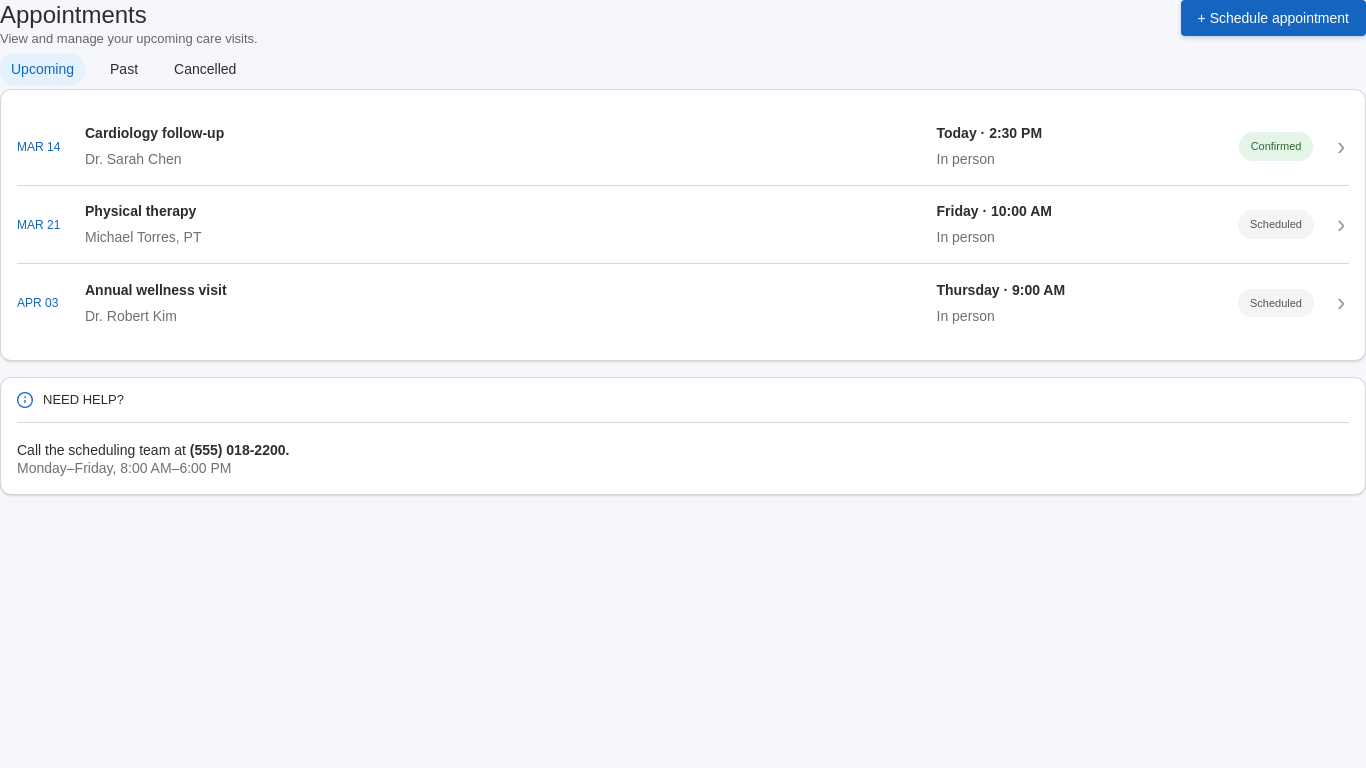
Scenario: CareScreens › Appointments › scheduling adds an appointment to Upcoming
The width and height of the screenshot is (1366, 768).
Step 1. Click the button "+ Schedule appointment" → (1273, 18), box [1181,0,1365,36]
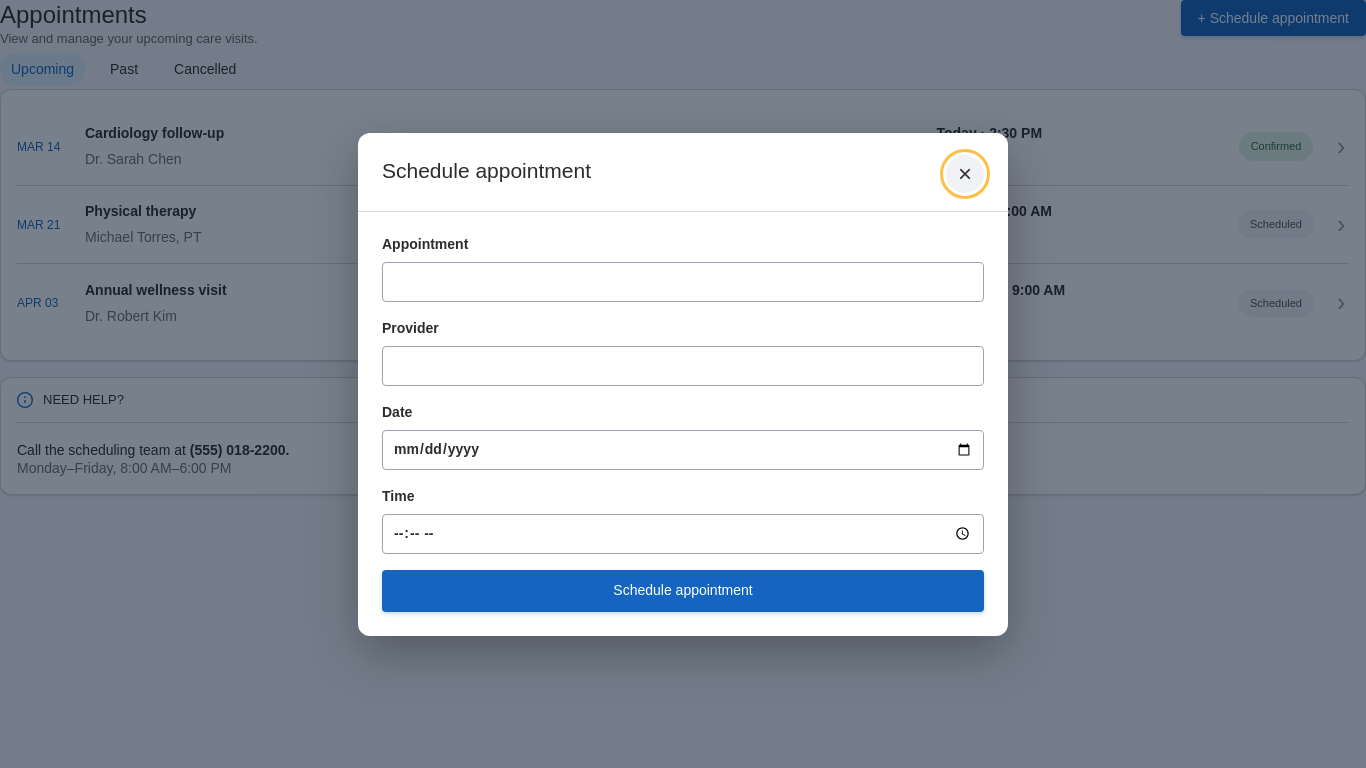
Step 2. Type "Eye exam" into the field labelled "Appointment" → (683, 282), box [382,262,984,302]
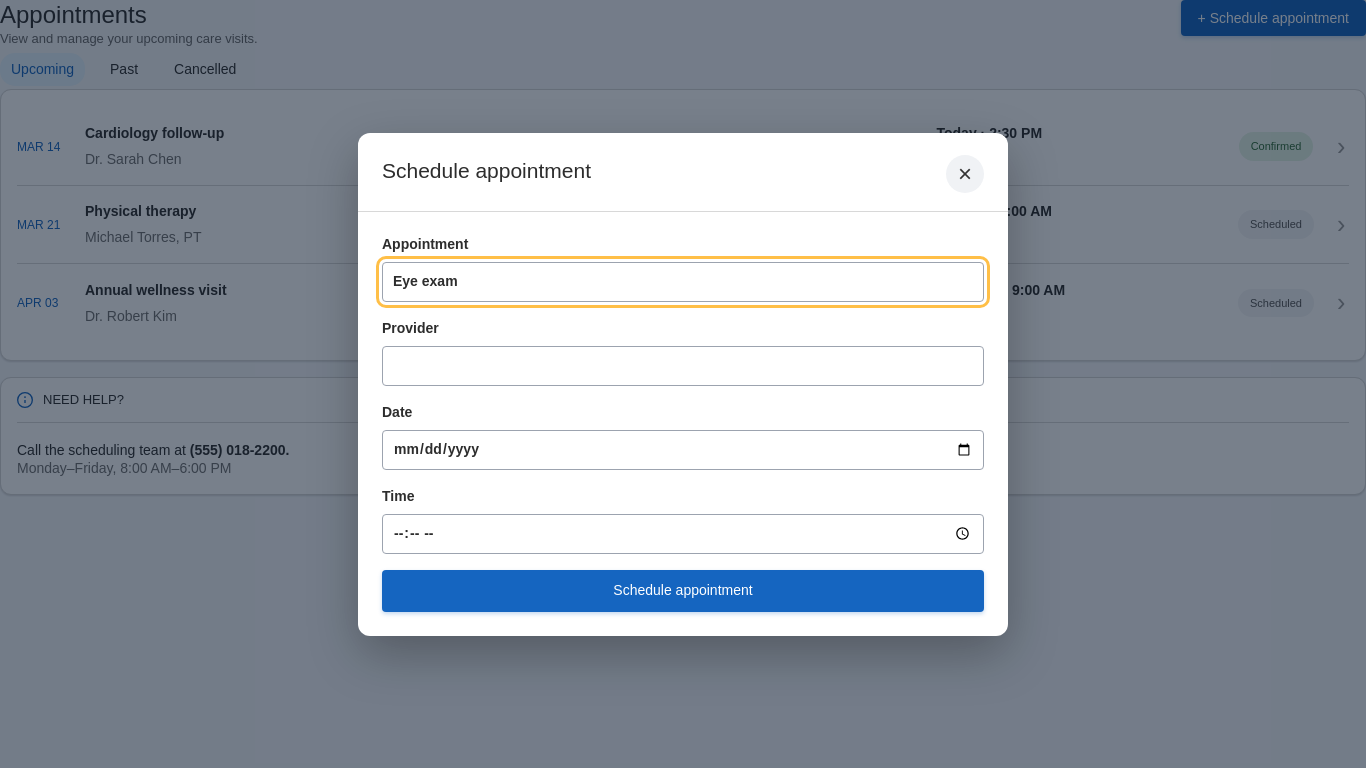
Step 3. Type "Dr. Jones" into the field labelled "Provider" → (683, 366), box [382,346,984,386]
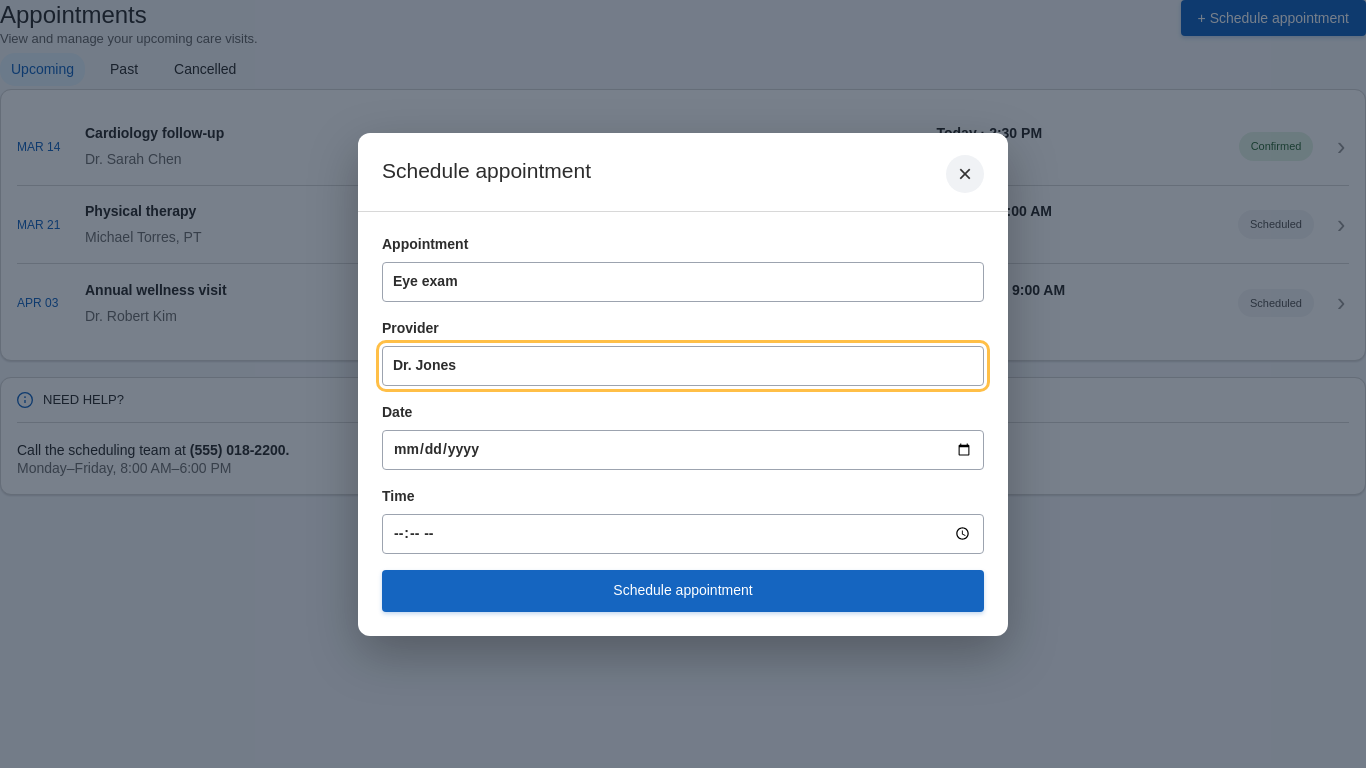
Step 4. Type "2026-11-12" into the date field labelled "Date" → (683, 450), box [382,430,984,470]
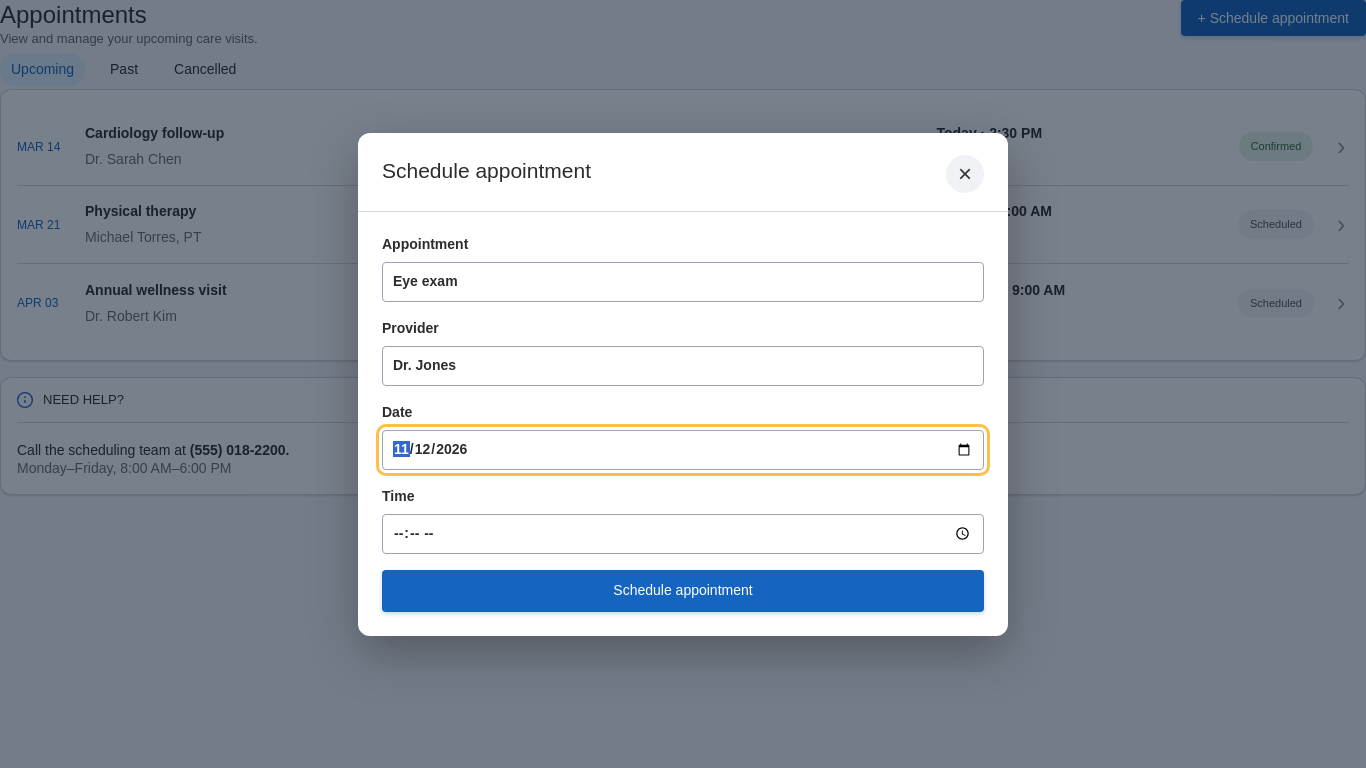
Step 5. Type "10:30" into the time field labelled "Time" → (683, 534), box [382,514,984,554]
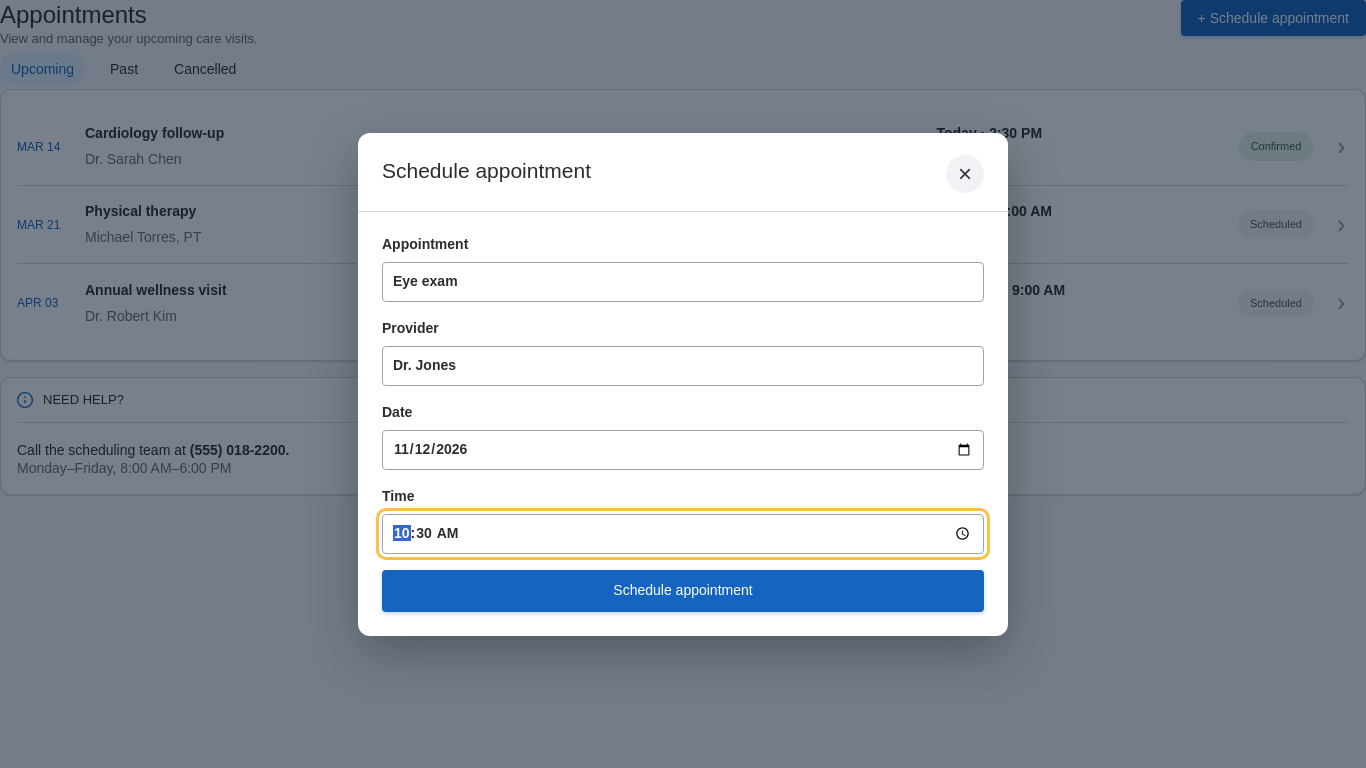
Step 6. Click the button "Schedule appointment" → (683, 590), box [382,570,984,612]
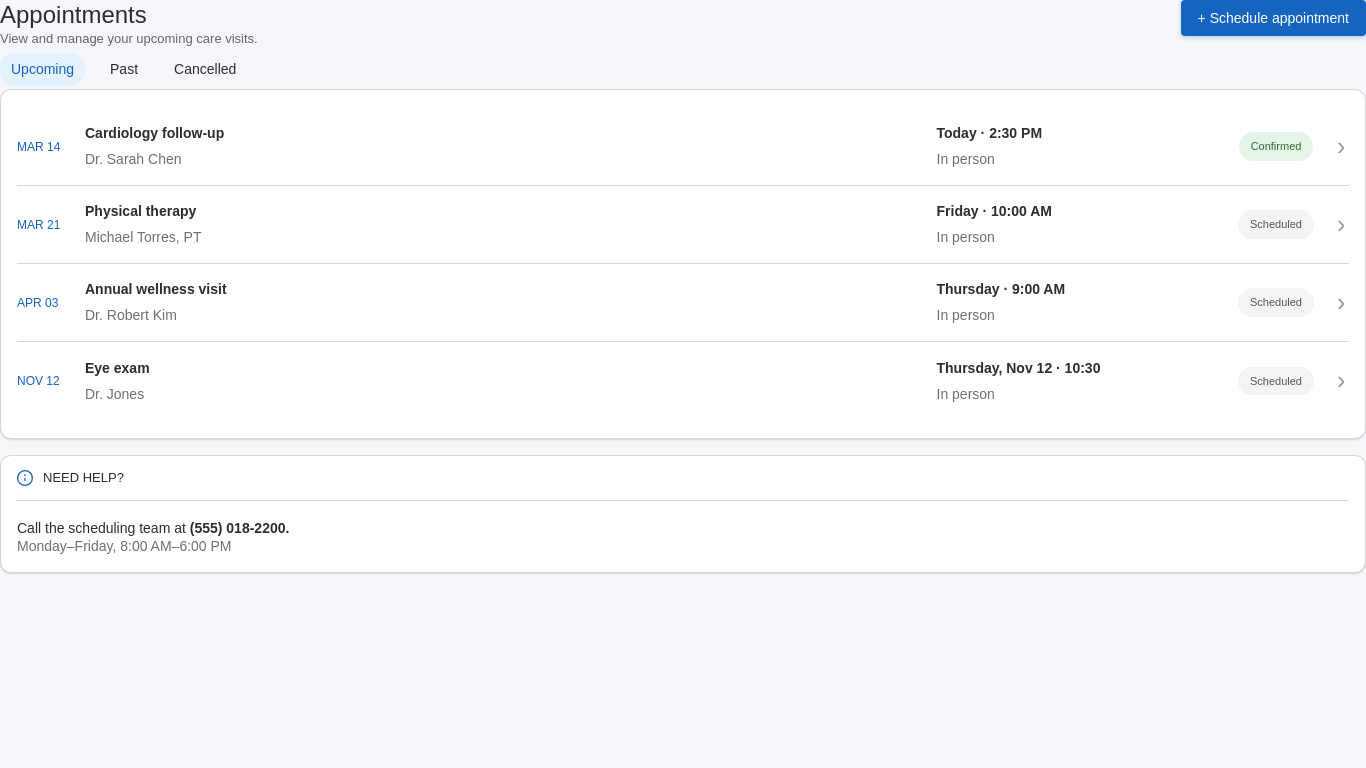
Expected: the panel shows "Eye exam", [85,360,150,376]
Expected: the panel shows "Dr. Jones", [85,386,144,402]
